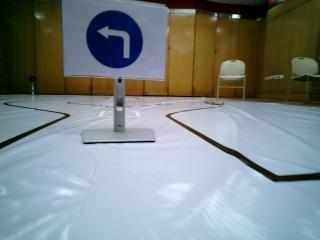left: (66, 1, 170, 83)
